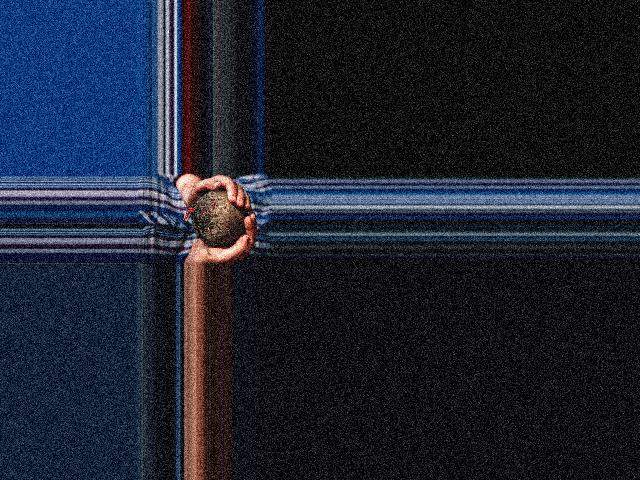beet: (182, 191, 245, 246)
